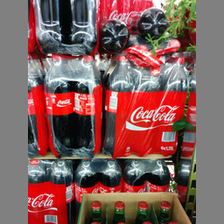soda: (104, 55, 136, 157), (44, 56, 75, 156), (132, 54, 159, 156), (74, 54, 100, 155), (31, 1, 66, 54), (64, 1, 98, 49), (49, 159, 74, 224), (75, 158, 99, 217), (122, 157, 148, 192), (100, 156, 121, 193)
